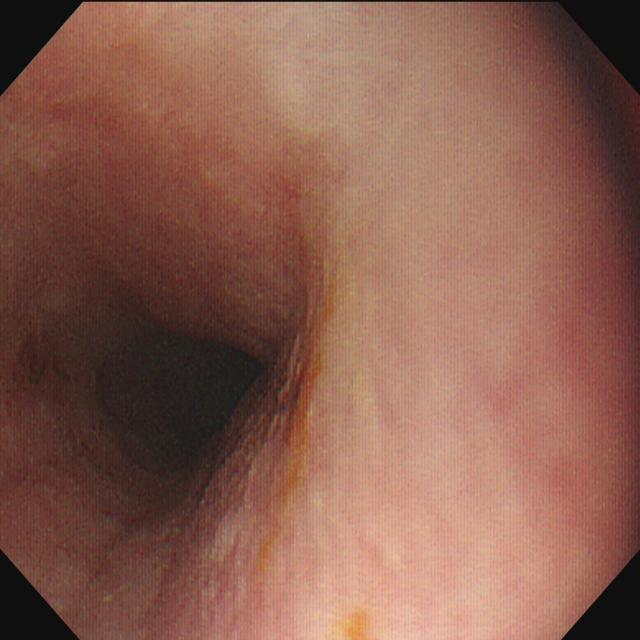E: (82, 293, 272, 515)
